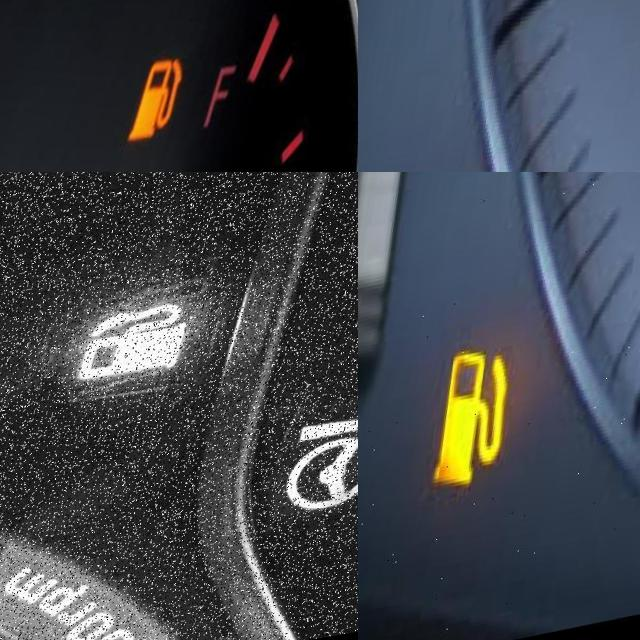Electronic Power Steering: (292, 408, 358, 531)
